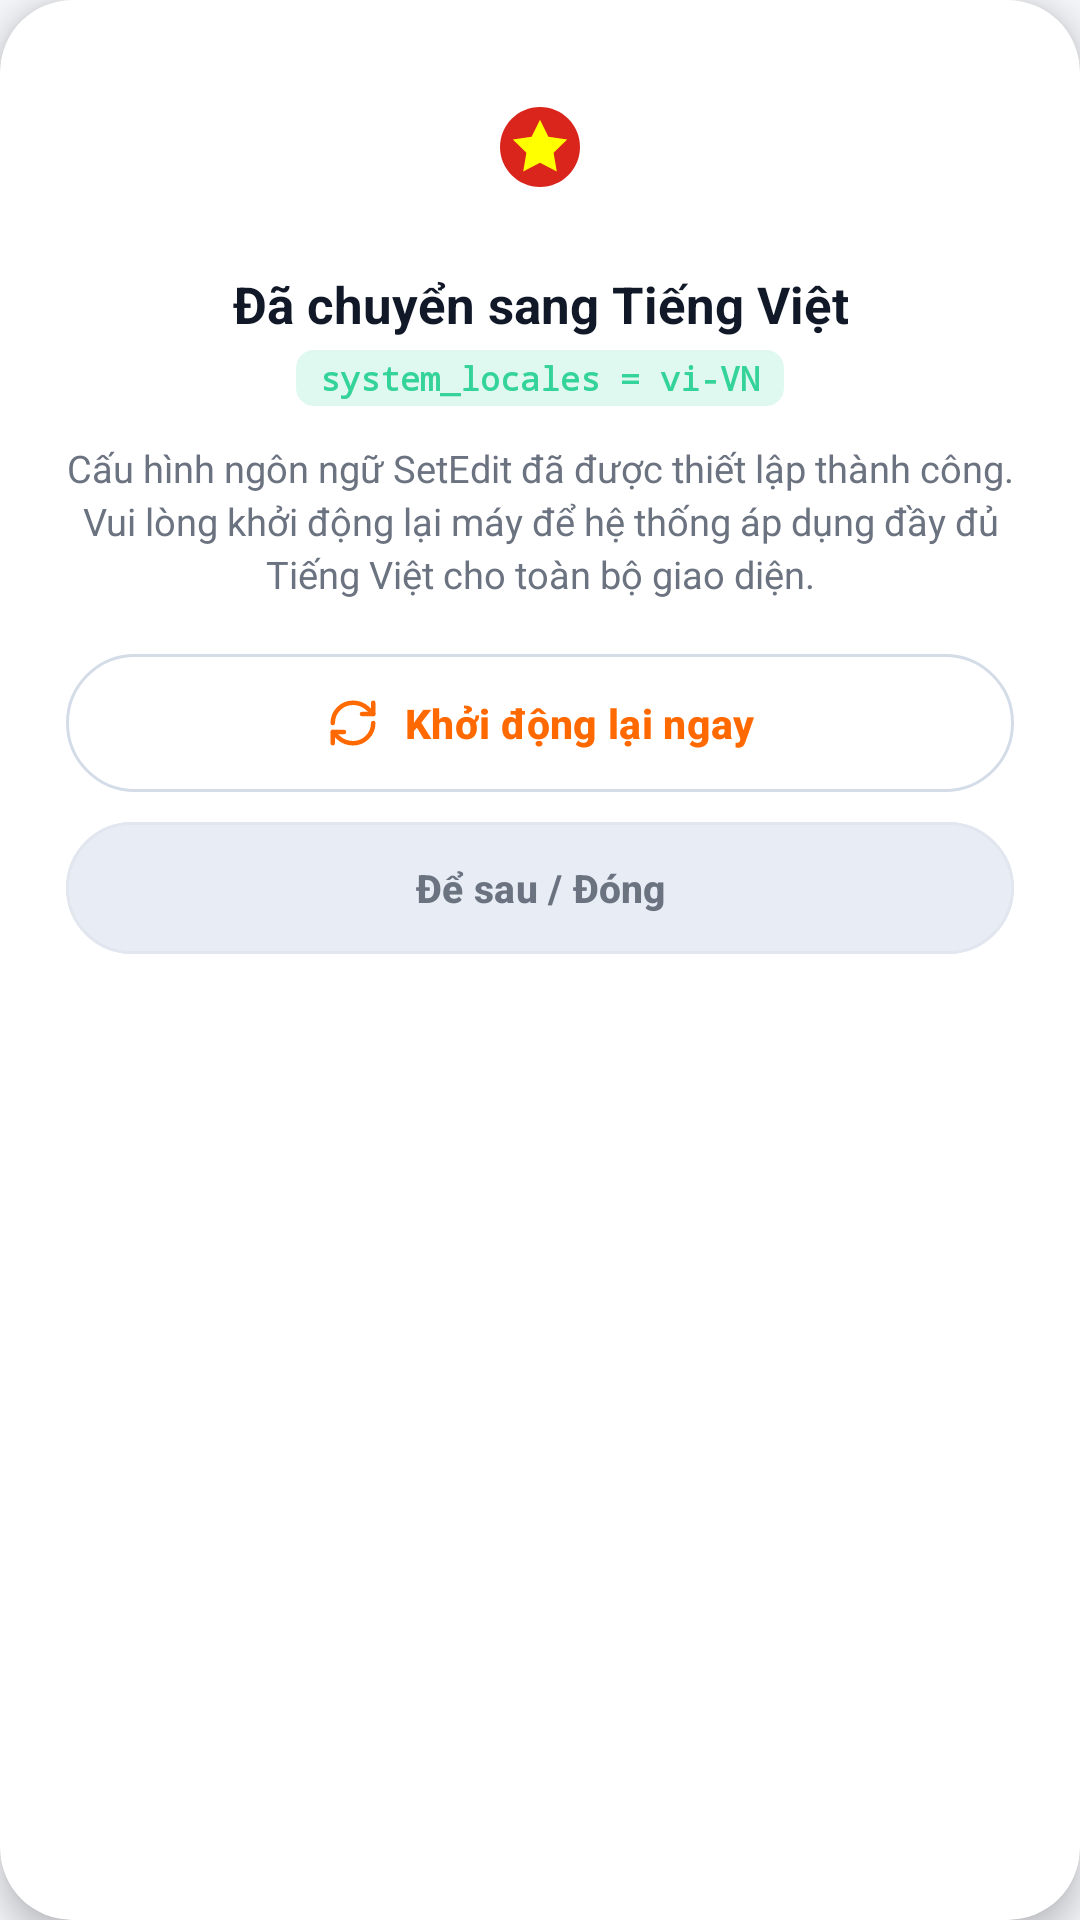

Icons on this 1080px x 1920px Android screen, each with its box as [x1, y1, x2, y2]:
flag vietnam: [500, 107, 580, 187]
